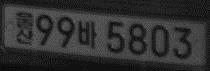0: (150, 24, 171, 58)
3: (172, 25, 192, 59)
5: (105, 19, 125, 53)
8: (127, 21, 148, 56)
9: (34, 13, 54, 47), (56, 14, 75, 48)
바: (76, 19, 97, 49)
울산_V: (15, 10, 35, 45)
